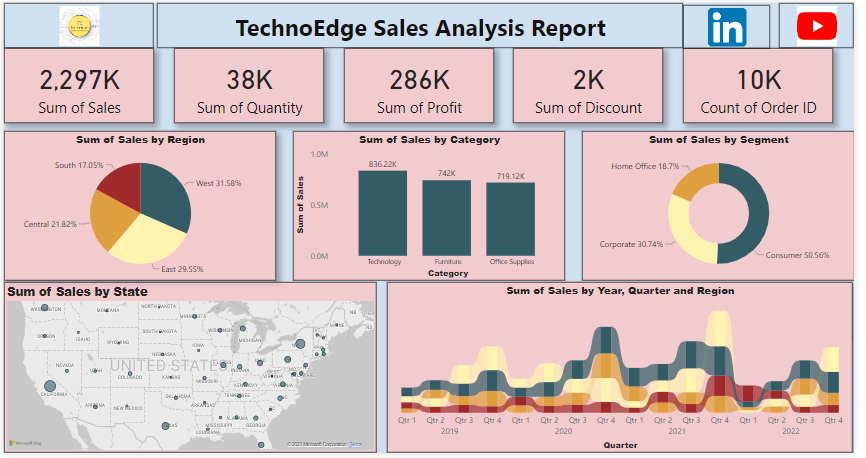

The page's visual inventory and layout, read from the dashboard file:
{"tool":"powerbi","page":{"name":"Page 1","canvas":[1700,900],"ordinal":0},"visuals":[{"type":"pieChart","fields":{"Category":["Combined Data.Region"],"Y":["Sum(Combined Data.Sales)"]},"box":[0,255.6,544.1,299.5],"z":1000},{"type":"columnChart","fields":{"Category":["Combined Data.Category"],"Y":["Sum(Combined Data.Sales)"]},"box":[577.9,255.6,544.1,299.5],"z":2000},{"type":"ribbonChart","fields":{"Category":["Combined Data.Order Date.Variation.Date Hierarchy.Year","Combined Data.Order Date.Variation.Date Hierarchy.Quarter","Combined Data.Order Date.Variation.Date Hierarchy.Month","Combined Data.Order Date.Variation.Date Hierarchy.Day"],"Y":["Sum(Combined Data.Sales)"],"Series":["Combined Data.Region"]},"box":[766.9,558.8,931.3,341.5],"z":3000},{"type":"donutChart","fields":{"Category":["Combined Data.Segment"],"Y":["Sum(Combined Data.Sales)"]},"box":[1155,255.6,545,299.5],"z":5000},{"type":"map","fields":{"Category":["Combined Data.State"],"Size":["Sum(Combined Data.Sales)"]},"box":[0,558.8,748.7,341.5],"z":6000},{"type":"card","fields":{"Values":["Sum(Combined Data.Sales)"]},"box":[0,90.4,300,150],"z":7000},{"type":"card","fields":{"Values":["Sum(Combined Data.Quantity)"]},"box":[339.6,90.4,300,150],"z":8000},{"type":"card","fields":{"Values":["Sum(Combined Data.Profit)"]},"box":[679.3,90.4,300,150],"z":9000},{"type":"card","fields":{"Values":["Sum(Combined Data.Discount)"]},"box":[1018.9,90.4,300,150],"z":10000},{"type":"card","fields":{"Values":["CountNonNull(Combined Data.Order ID)"]},"box":[1358.5,90.4,300,150],"z":11000},{"type":"actionButton","box":[306.5,0,1052.4,90.4],"z":11001},{"type":"image","box":[0,0,299.4,90.4],"z":11002},{"type":"image","box":[1358.9,3.5,173.6,86.8],"z":11003},{"type":"image","box":[1550.2,0,148.8,90.4],"z":11004}]}

Visuals, with their boxes in screenshot pixels (x1, y1, x2, y2), scaled from the page's 1700x900 canvas onto the 866x458 screenshot:
pieChart - Combined Data.Region x Sum(Combined Data.Sales): <region>0, 130, 277, 282</region>
columnChart - Combined Data.Category x Sum(Combined Data.Sales): <region>294, 130, 572, 282</region>
ribbonChart - Combined Data.Order Date.Variation.Date Hierarchy.Year x Combined Data.Order Date.Variation.Date Hierarchy.Quarter: <region>391, 284, 865, 457</region>
donutChart - Combined Data.Segment x Sum(Combined Data.Sales): <region>588, 130, 865, 282</region>
map - Combined Data.State x Sum(Combined Data.Sales): <region>0, 284, 381, 457</region>
card - Sum(Combined Data.Sales): <region>0, 46, 153, 122</region>
card - Sum(Combined Data.Quantity): <region>173, 46, 326, 122</region>
card - Sum(Combined Data.Profit): <region>346, 46, 499, 122</region>
card - Sum(Combined Data.Discount): <region>519, 46, 672, 122</region>
card - CountNonNull(Combined Data.Order ID): <region>692, 46, 845, 122</region>
actionButton: <region>156, 0, 692, 46</region>
image: <region>0, 0, 153, 46</region>
image: <region>692, 2, 781, 46</region>
image: <region>790, 0, 865, 46</region>
